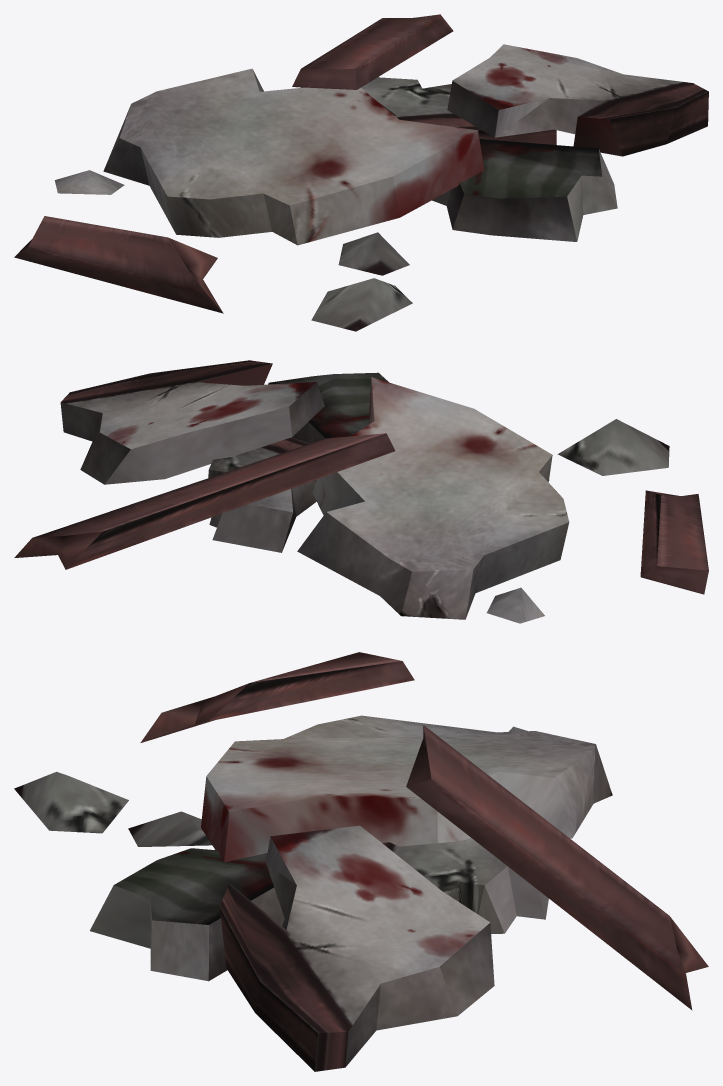
File: PRP_TempleStoneL.FBX
3 views of the same model, one above another, from view 1: azimuth 30°, elevation 25°; view 2: azimuth 150°, elevation 25°; view 3: azimuth 270°, elevation 25° (orthographic). The views are drawn at different scales.
Visible parts, largest first — view 1: PRP_TempleStoneL; view 2: PRP_TempleStoneL; view 3: PRP_TempleStoneL.
Part boxes in pixels (box(x1,y1,x2,y2)): PRP_TempleStoneL: box(14, 14, 708, 331); PRP_TempleStoneL: box(14, 360, 708, 623); PRP_TempleStoneL: box(14, 652, 708, 1071).
Size of the model in its own units: 544 by 87.63 by 408.
